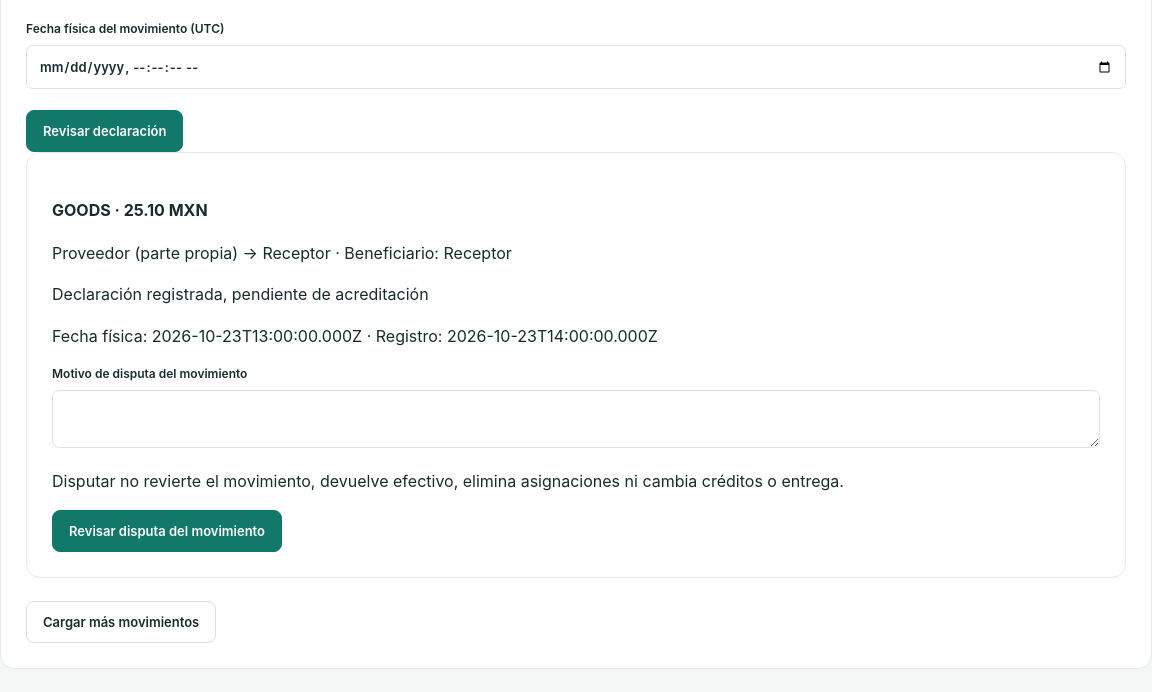
it: membership loss on continuation fences private data and retains technical recovery outside this component
(page scrolled)
Click the button "Cargar más movimientos". click: x=121, y=622
box: [26,601,216,643]
(page scrolled)
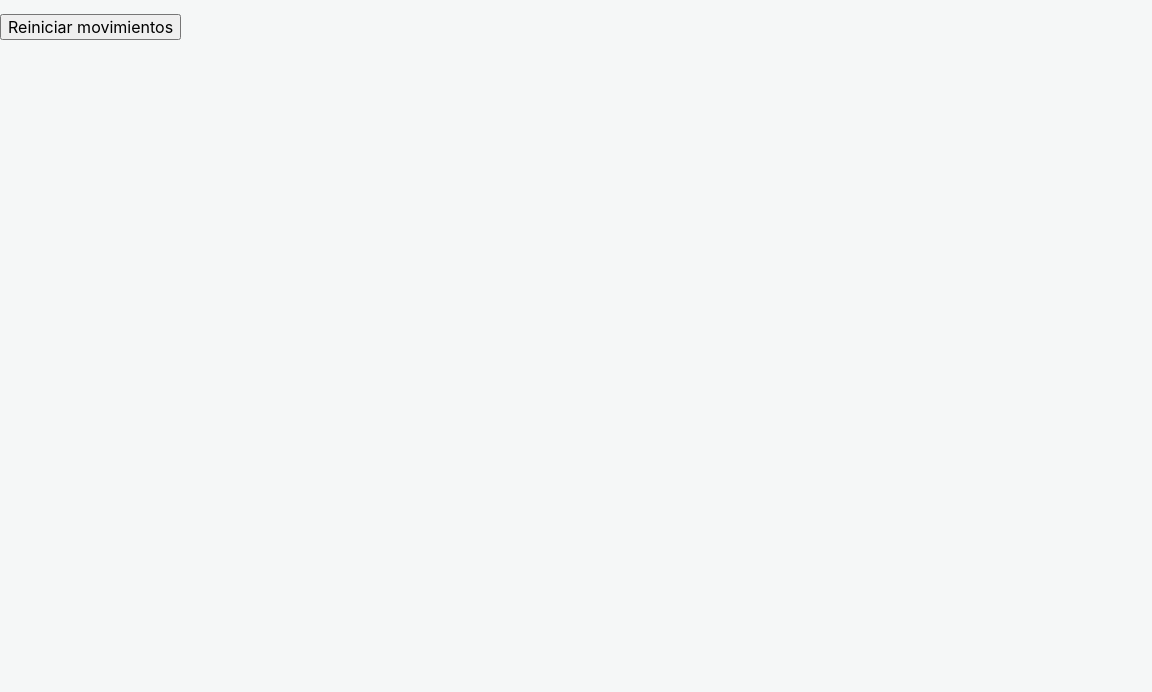
Check: the text "Declaración registrada, pendiente de acreditación" is gone
